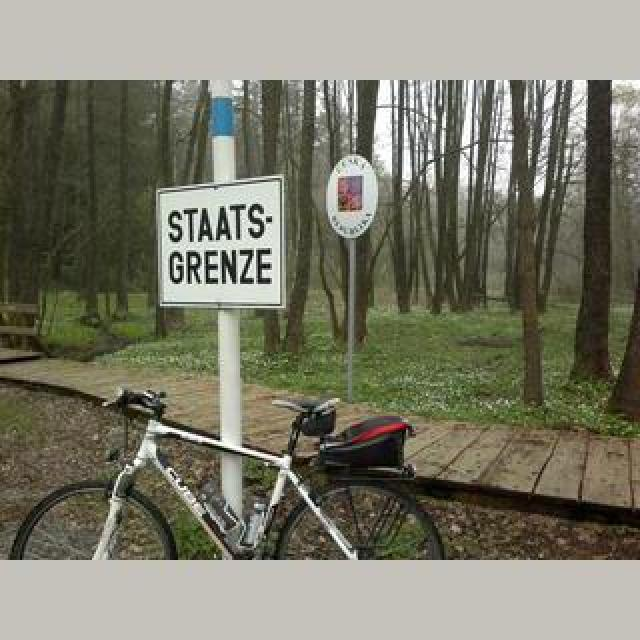Person: (4, 380, 444, 560)
